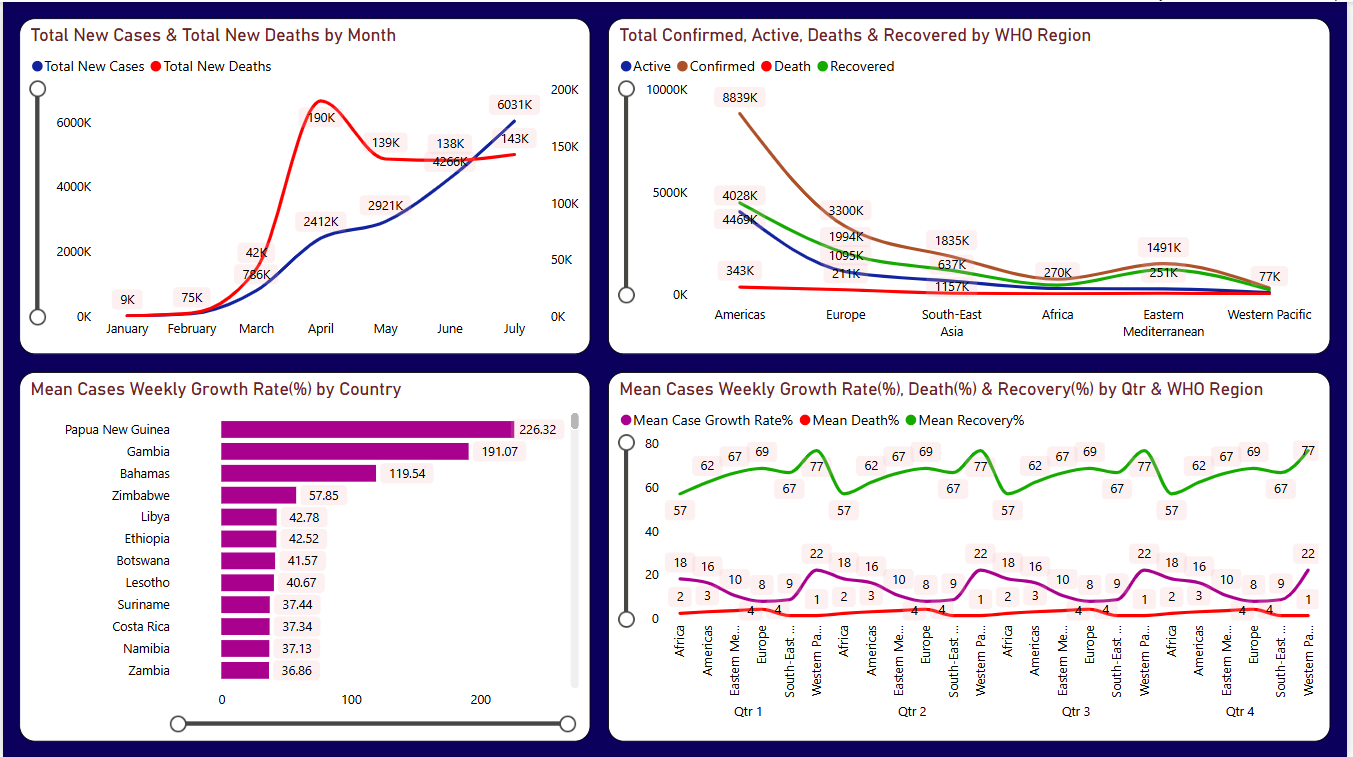

The page's visual inventory and layout, read from the dashboard file:
{"tool":"powerbi","page":{"name":"Trends & Growth","canvas":[1280,720],"ordinal":3},"visuals":[{"type":"lineChart","title":"Total New Cases & Total New Deaths by Month","fields":{"Category":["GlobalDailyTotals.Date.Variation.Date Hierarchy.Month"],"Y":["View.New Cases GlobalDailyTotal"],"Y2":["View.Total New Deaths"]},"box":[16,16,544,320],"z":0},{"type":"barChart","title":"Mean Cases Weekly Growth Rate(%) by Country","fields":{"Category":["LatestByCountry.Country"],"Y":["View.Mean Case Growth Rate%"]},"box":[16,352,544,352],"z":1000},{"type":"areaChart","title":"Total Confirmed, Active, Deaths & Recovered by WHO Region","fields":{"Category":["LatestByCountry.WHO_Region"],"Y":["View.Active","View.Confirmed","View.Death","View.Recovered"]},"box":[576,16,688,320],"z":2000},{"type":"lineChart","title":"Mean Cases Weekly Growth Rate(%), Death(%) & Recovery(%) by Qtr & WHO Region","fields":{"Category":["CasesByCountryAndProvinceDaily.Date.Variation.Date Hierarchy.Quarter","LatestByCountry.WHO_Region"],"Y":["View.Mean Case Growth Rate%","View.Mean Death%","View.Mean Recovery%"]},"box":[576,352,688,352],"z":3000}]}

Visuals, with their boxes in screenshot pixels (x1, y1, x2, y2), scaled from the page's 1280x720 canvas onto the 1353x757 screenshot:
"Total New Cases & Total New Deaths by Month" lineChart: left=17, top=17, right=592, bottom=353
"Mean Cases Weekly Growth Rate(%) by Country" barChart: left=17, top=370, right=592, bottom=740
"Total Confirmed, Active, Deaths & Recovered by WHO Region" areaChart: left=609, top=17, right=1336, bottom=353
"Mean Cases Weekly Growth Rate(%), Death(%) & Recovery(%) by Qtr & WHO Region" lineChart: left=609, top=370, right=1336, bottom=740
